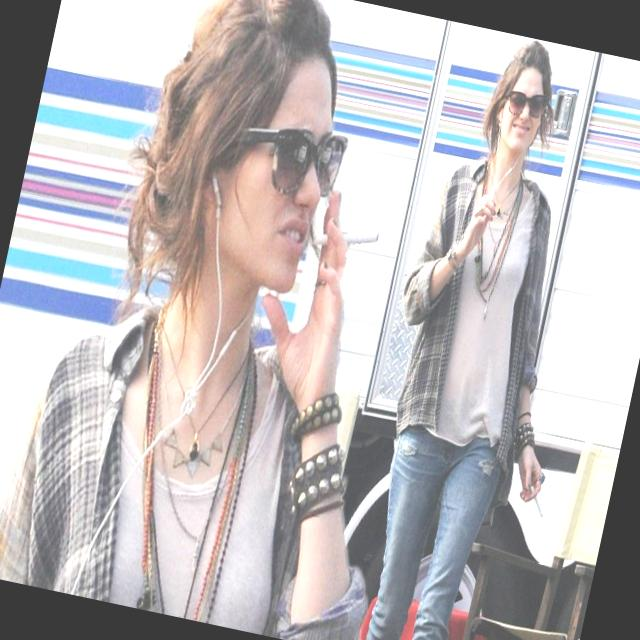smoke: (286, 188, 395, 275), (472, 194, 514, 230)
